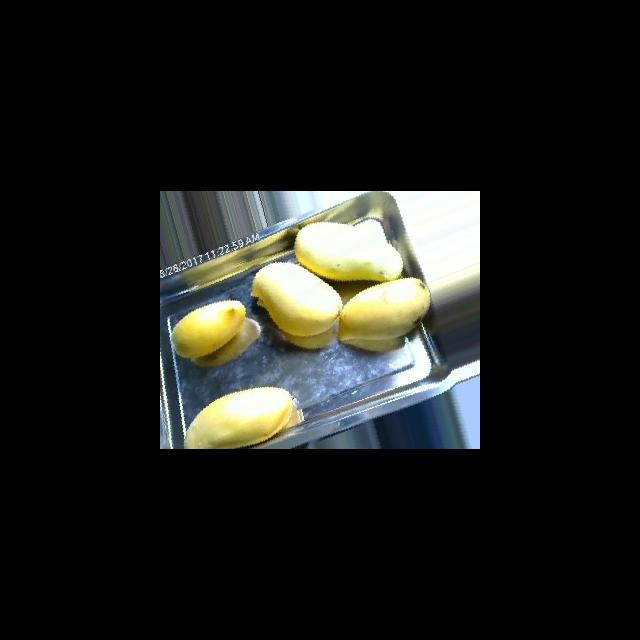Mango: (183, 385, 304, 448), (293, 219, 403, 282), (338, 276, 430, 351), (171, 299, 246, 358)
